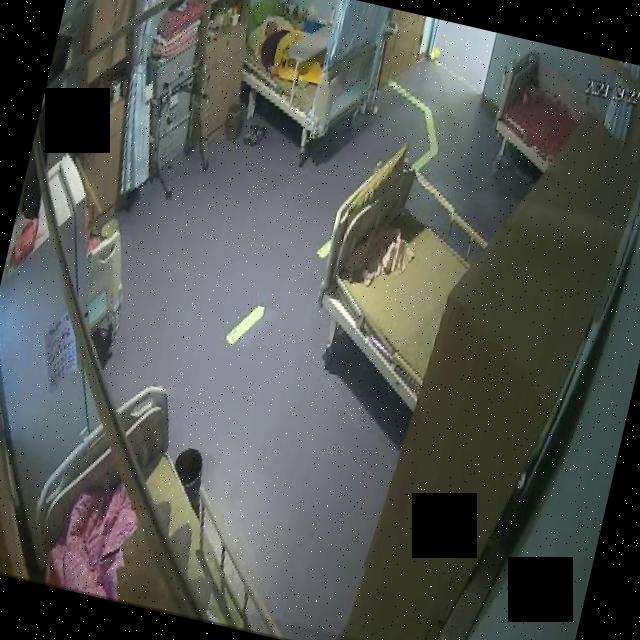bed: (18, 364, 300, 632), (294, 147, 470, 416), (227, 14, 381, 176), (480, 36, 576, 186)
